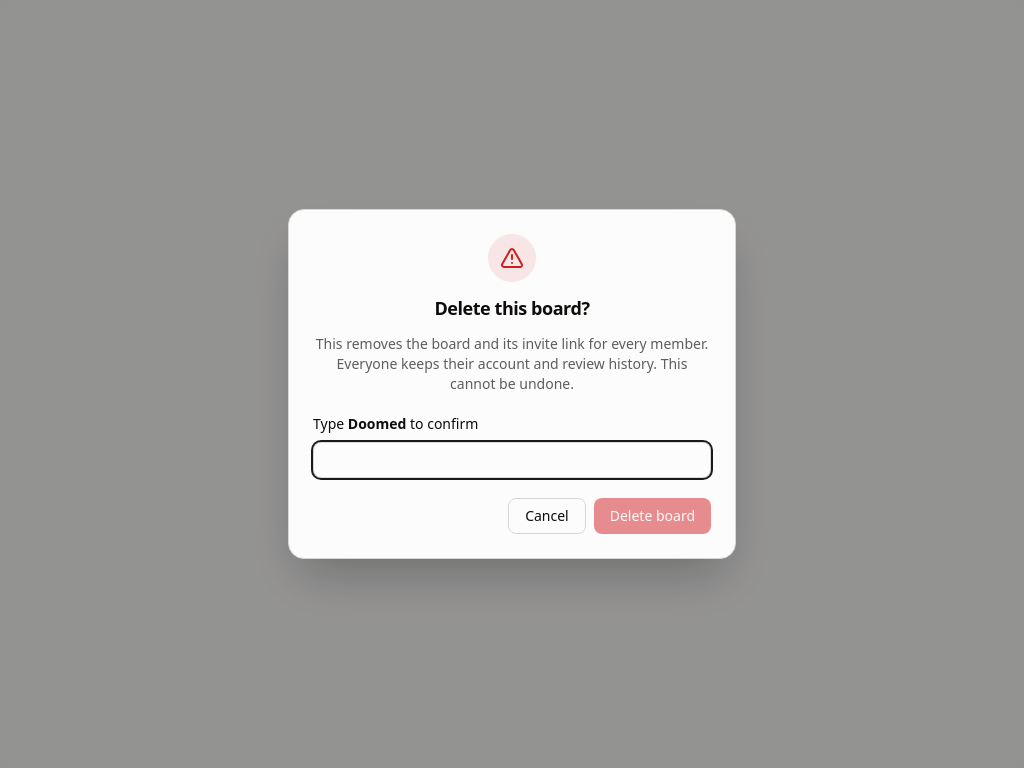
Test case: DeleteBoardDialog › only enables Delete once the exact name is typed
Later steps or results of the test are not shown.
Expected: the button "Delete board" is disabled, [594,498,711,534]
Step 1. Type "doomed" into the field → (512, 460), box [313,442,711,478]
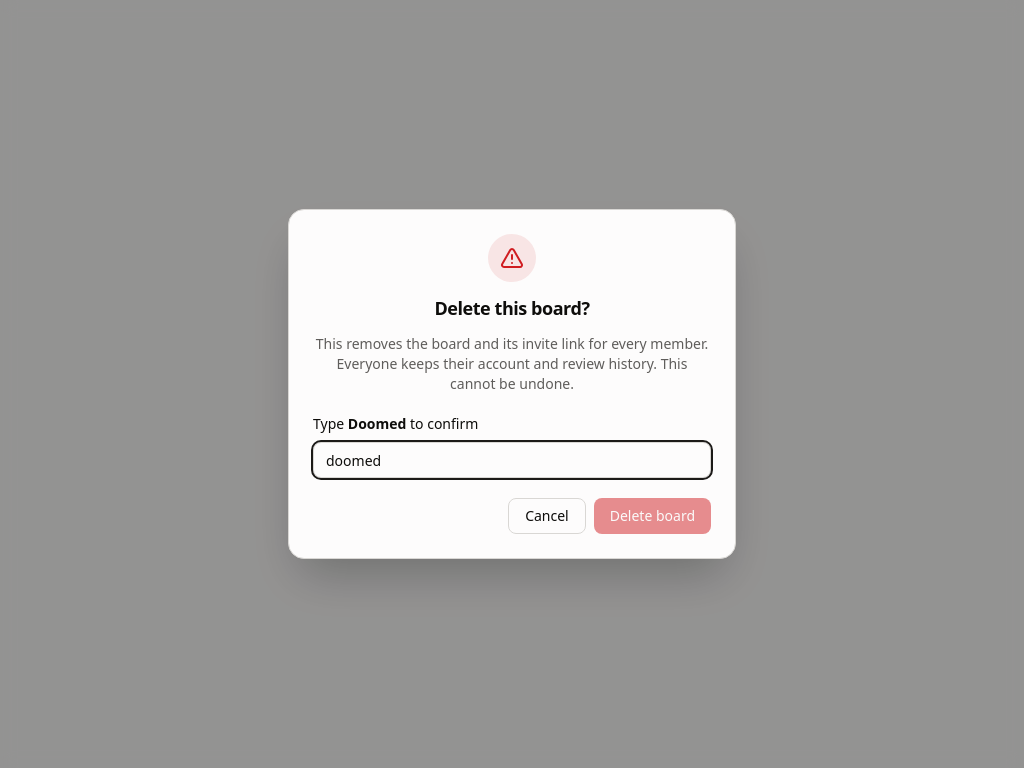
Expected: the button "Delete board" is disabled, [594,498,711,534]
Step 2. Replace the text in the field with "Doomed" → (512, 460), box [313,442,711,478]
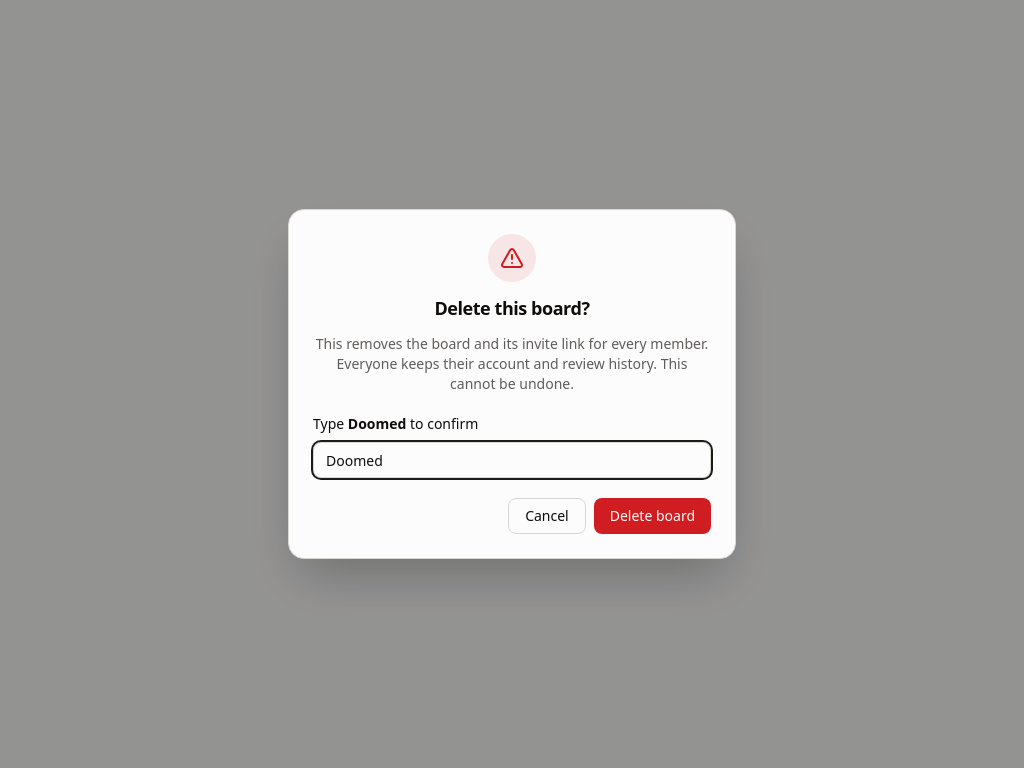
Result: the button "Delete board" is enabled at [594,498,711,534]
